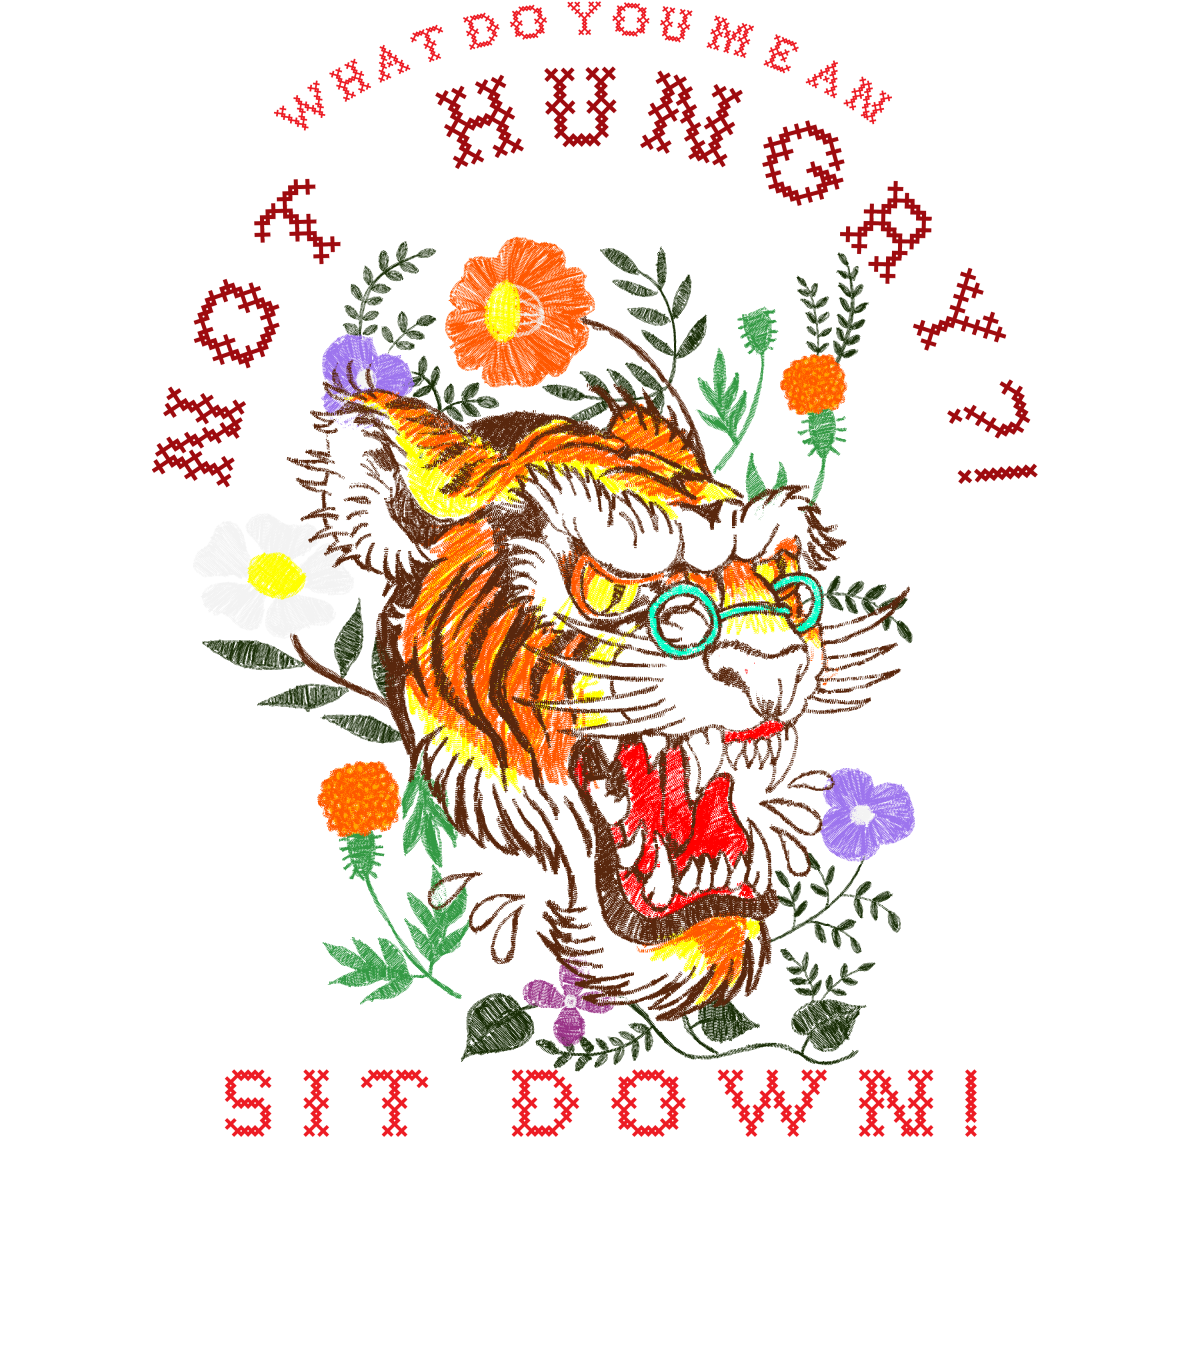design: (141, 1, 1055, 1173)
